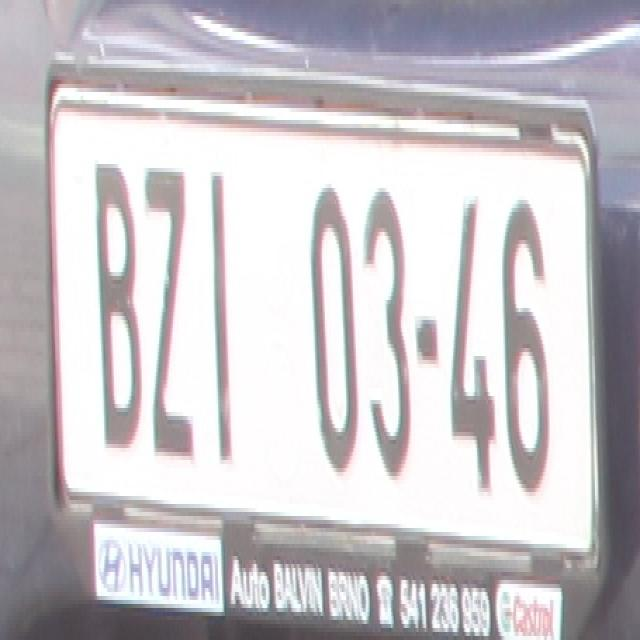0: (310, 184, 360, 468)
3: (362, 184, 409, 480)
4: (448, 192, 497, 492)
6: (499, 188, 553, 504)
B: (91, 152, 142, 460)
Z: (140, 160, 196, 460)
